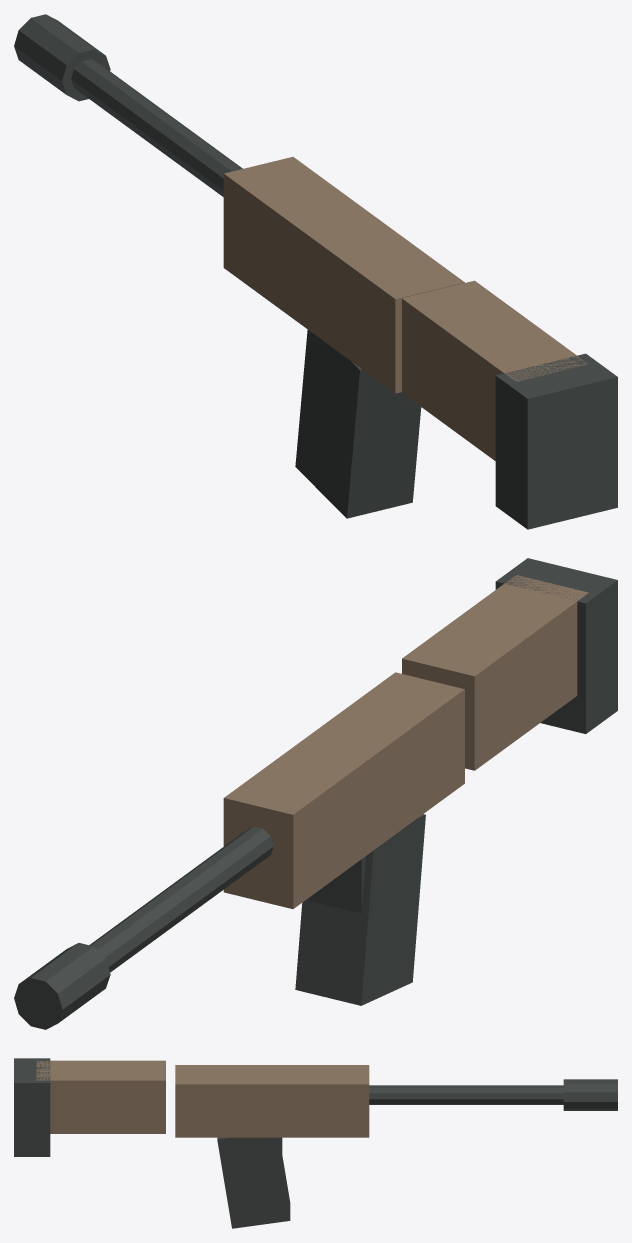
Rendered from weapon_ak74.glb.
3 renders of one model, top to bottom at view 1: azimuth 30°, elevation 25°; view 2: azimuth 150°, elevation 25°; view 3: azimuth 270°, elevation 25°, orthographic. The views are drawn at different scales.
Parts seen in each view (by area): view 1: receiver_0, butt_5, stock_4, mag_6, barrel_1, muzzle_2; view 2: receiver_0, stock_4, mag_6, butt_5, barrel_1, muzzle_2, grip_3; view 3: receiver_0, stock_4, mag_6, barrel_1, butt_5, muzzle_2.
Boxes of the visible parts, <box> form: receiver_0: <box>223,157,464,393</box>; butt_5: <box>495,353,617,529</box>; stock_4: <box>402,280,587,460</box>; mag_6: <box>295,330,421,518</box>; barrel_1: <box>71,59,242,196</box>; muzzle_2: <box>14,14,110,101</box>; receiver_0: <box>223,672,464,908</box>; stock_4: <box>402,575,588,770</box>; mag_6: <box>295,814,425,1005</box>; butt_5: <box>495,558,617,733</box>; barrel_1: <box>89,826,273,972</box>; muzzle_2: <box>14,943,110,1029</box>; grip_3: <box>309,856,365,913</box>; receiver_0: <box>175,1065,369,1137</box>; stock_4: <box>36,1060,165,1133</box>; mag_6: <box>217,1137,290,1228</box>; barrel_1: <box>369,1085,563,1104</box>; butt_5: <box>14,1058,50,1156</box>; muzzle_2: <box>563,1079,617,1110</box>.
Size of the model in its own units: 0.13 by 0.3635 by 1.33.
